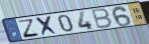0: (57, 14, 76, 33)
4: (77, 10, 95, 31)
6: (110, 5, 133, 28)
B: (91, 8, 114, 30)
X: (35, 14, 60, 37)
Z: (18, 18, 41, 39)
